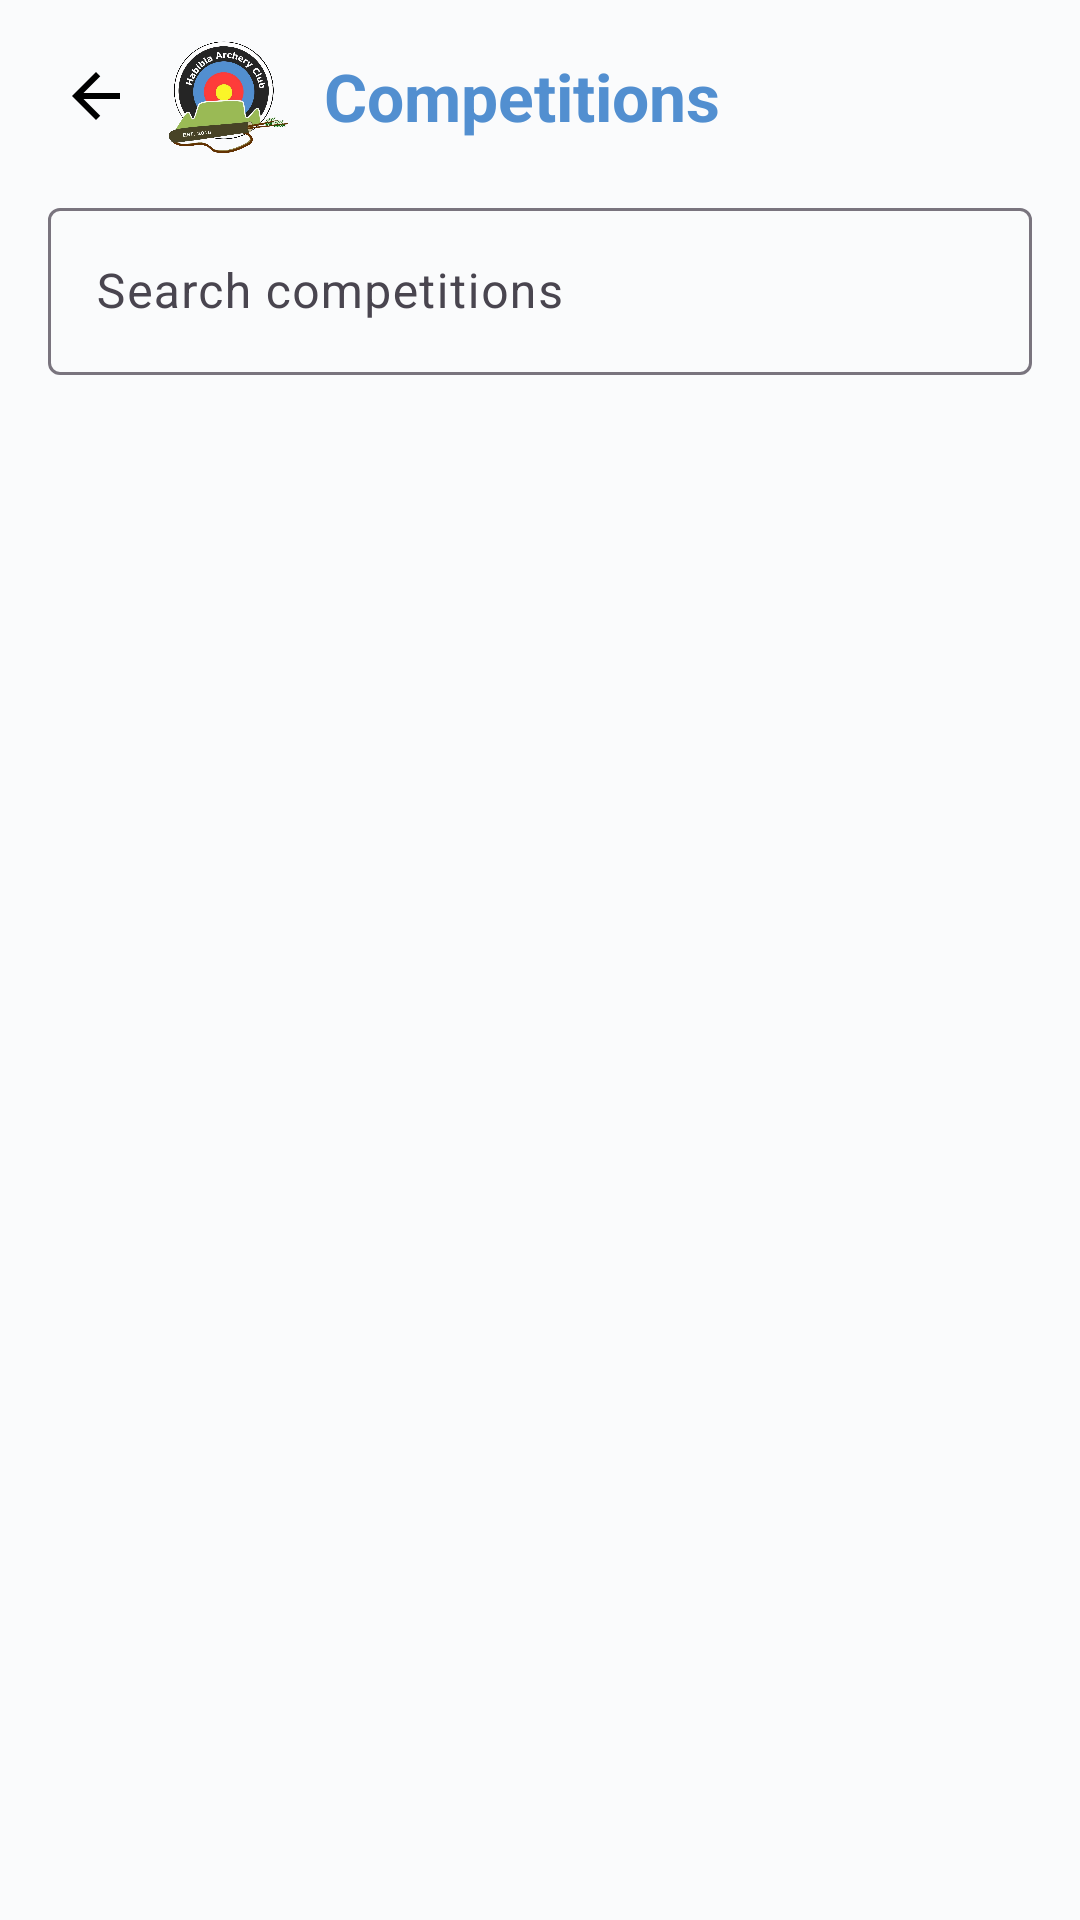

Where to tap for icons on this 1080×1920 app screen, as [x,y]:
Back: [96,96]
